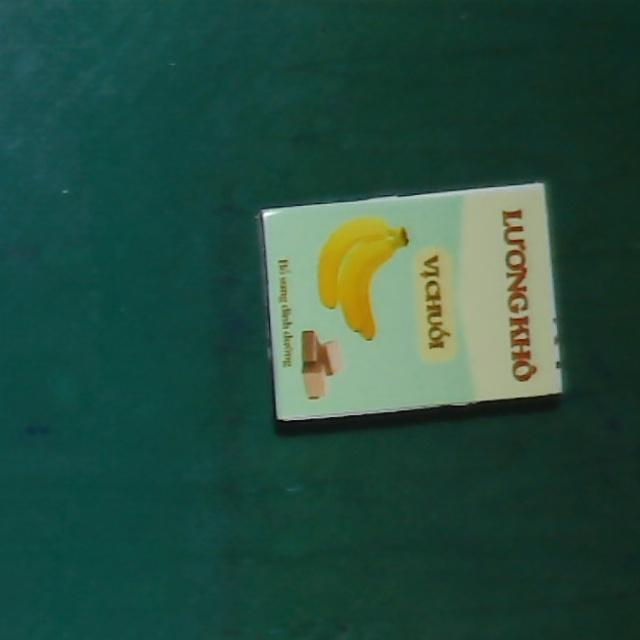chuoi: (254, 179, 567, 425)
